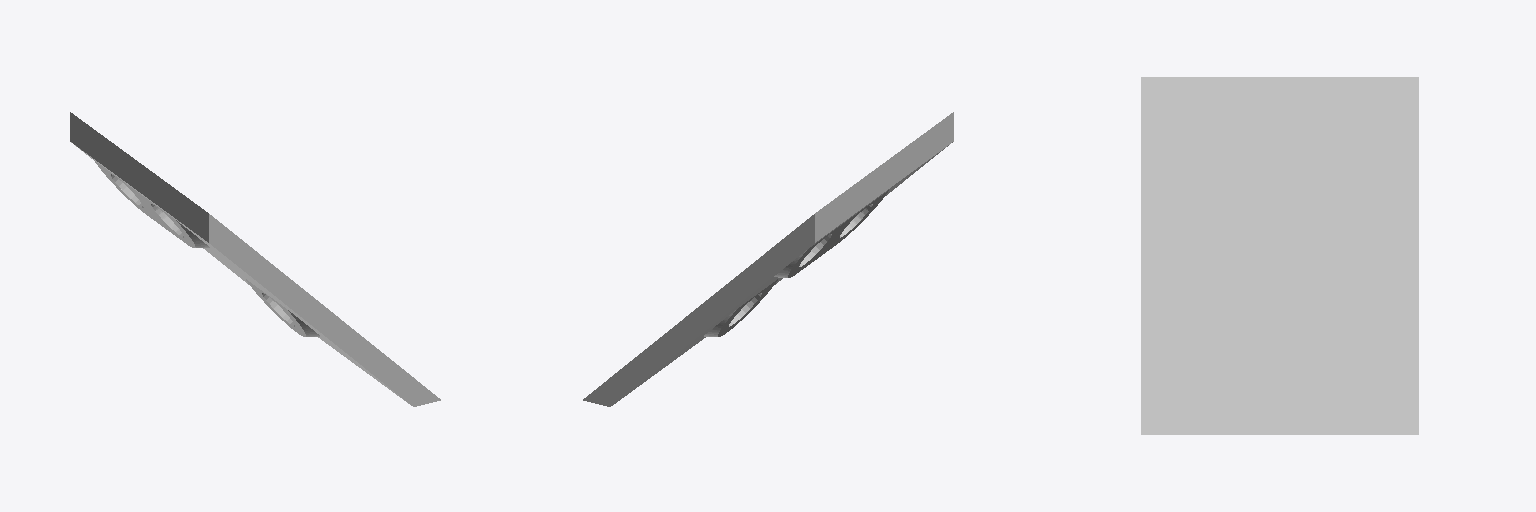
File: Cube 1x1 V5_Mirror Plate Vertical.obj
3 views of the same model, side by side, from view 1: azimuth 30°, elevation 25°; view 2: azimuth 150°, elevation 25°; view 3: azimuth 270°, elevation 25° (orthographic).
Parts seen in each view (by area): view 1: Solid1:28; view 2: Solid1:28; view 3: Solid1:28.
Boxes of the visible parts, x1,y1,x2,y2 form: Solid1:28: [70, 112, 440, 406]; Solid1:28: [583, 112, 953, 406]; Solid1:28: [1141, 77, 1418, 434].
Size of the model in its own units: 28.95 by 28.95 by 30.